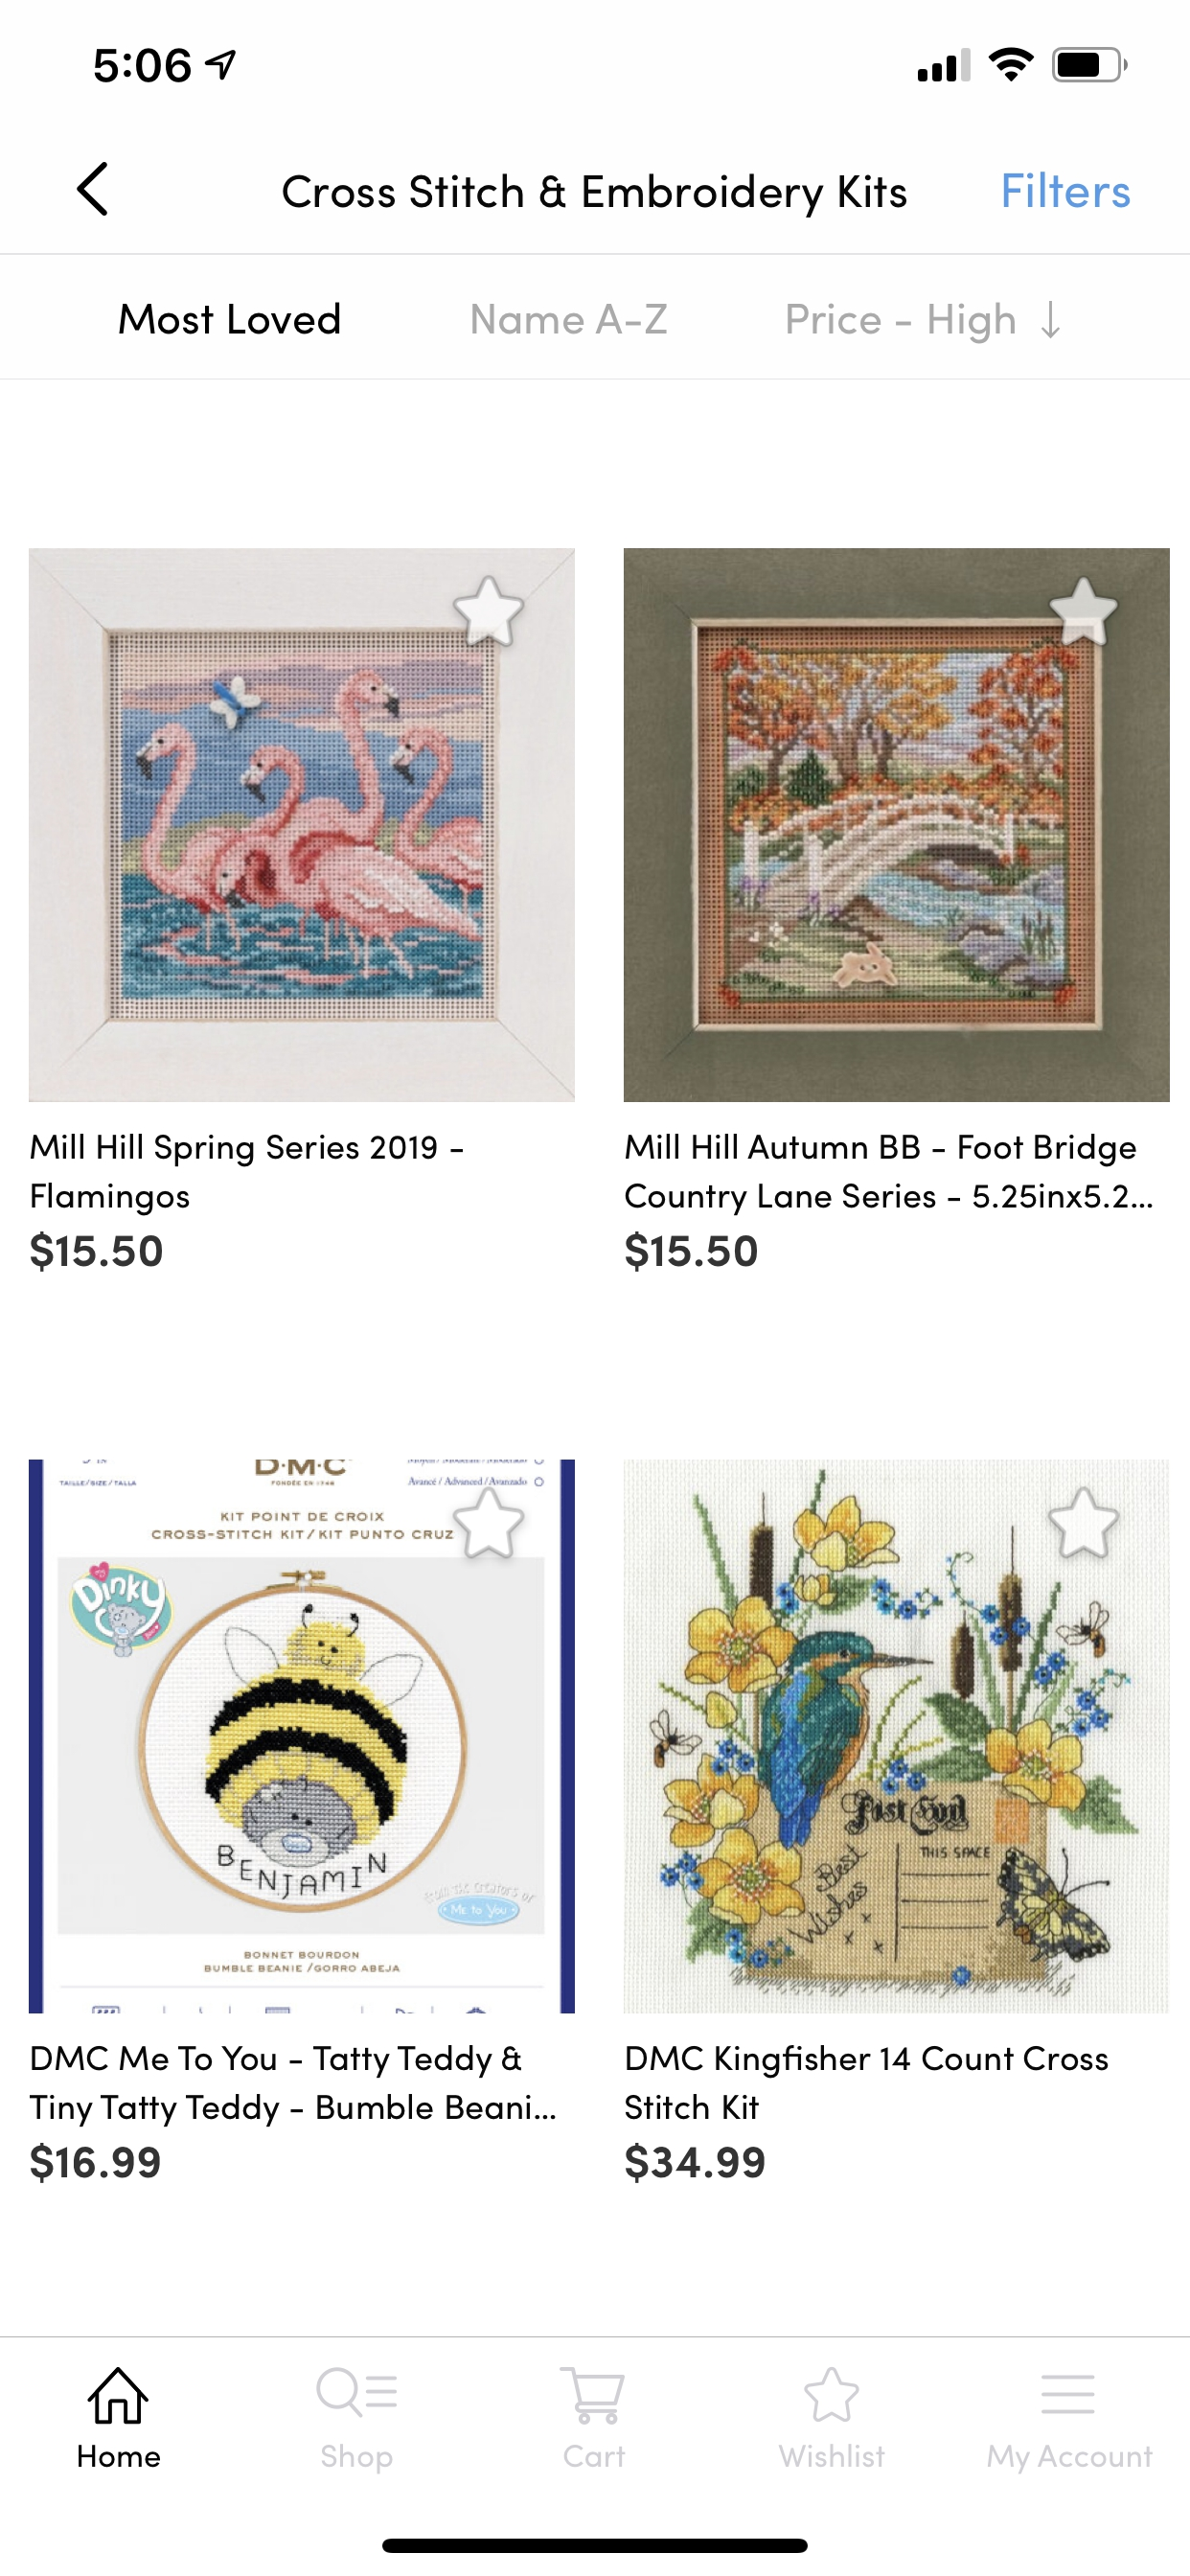Icon: (1047, 1487, 1119, 1559), (452, 1487, 524, 1559), (452, 575, 524, 646), (1049, 577, 1118, 646), (316, 2366, 396, 2418), (559, 2366, 625, 2425), (89, 2367, 148, 2425), (804, 2366, 860, 2422), (1040, 2374, 1095, 2413), (77, 163, 108, 217), (1040, 301, 1060, 338)
Image: (28, 1459, 575, 2014), (28, 549, 575, 1102), (623, 1459, 1169, 2014), (625, 549, 1170, 1102)
Text: (625, 1134, 1152, 1216), (30, 2045, 556, 2127), (626, 2044, 1108, 2119), (31, 1134, 464, 1216), (283, 174, 906, 218), (787, 302, 1014, 343), (118, 302, 340, 335), (472, 304, 667, 335), (626, 2142, 766, 2183), (31, 2142, 159, 2183), (626, 1232, 758, 1272), (31, 1232, 163, 1272), (988, 2445, 1152, 2474), (1003, 171, 1131, 209), (777, 2443, 886, 2468), (322, 2443, 394, 2474), (79, 2445, 161, 2468), (564, 2445, 626, 2468)
UpperTaskBar: (94, 48, 1128, 84)
